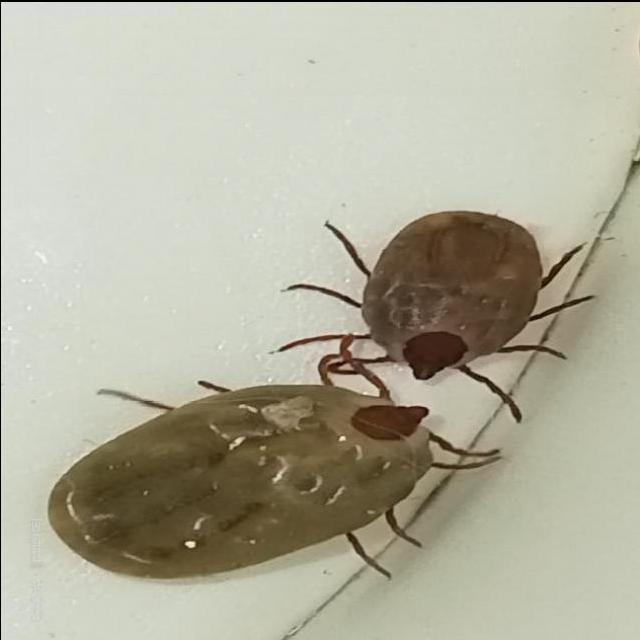Rhipicephalus Sanguineus-F-Fed: (45, 332, 502, 579), (272, 208, 593, 423)
